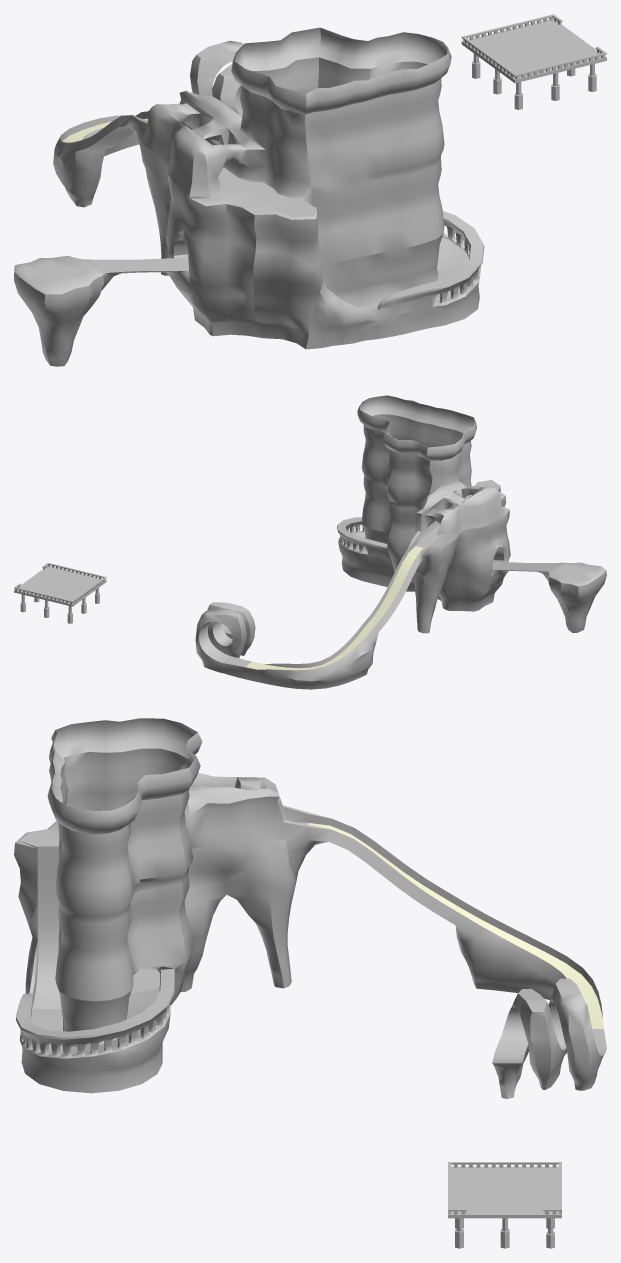
The model's file is Chunk4.obj.
3 renders of one model, top to bottom at view 1: azimuth 30°, elevation 25°; view 2: azimuth 150°, elevation 25°; view 3: azimuth 270°, elevation 25°, orthographic. The views are drawn at different scales.
Bounding box in the file's own units: 1291 × 433 × 858.
